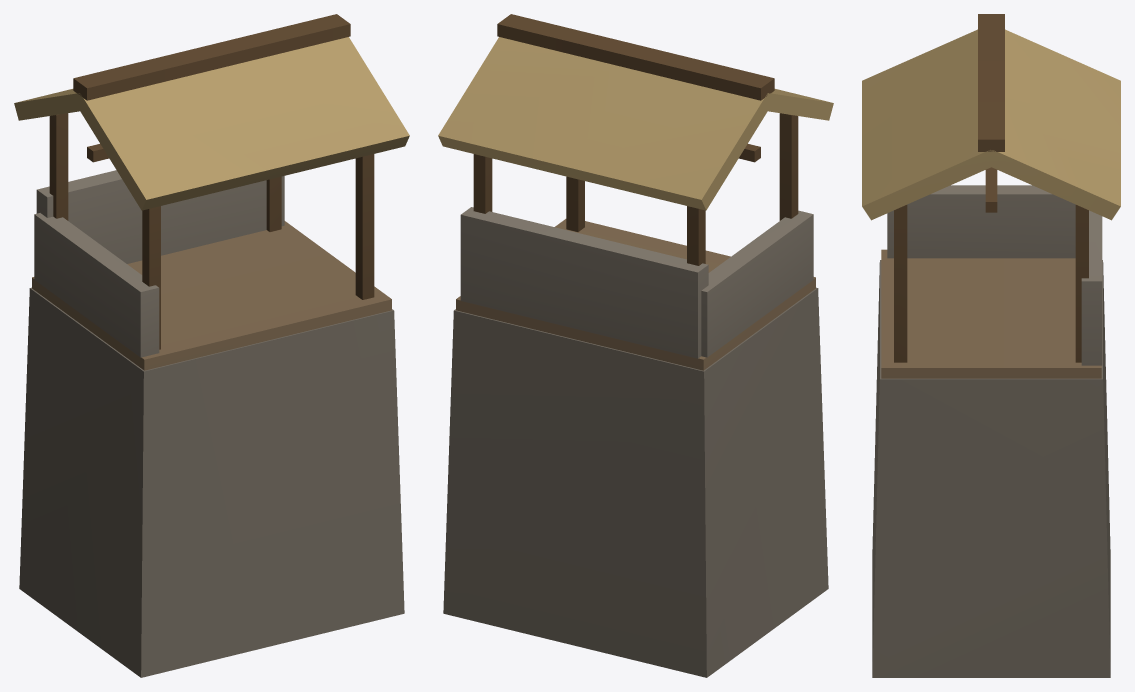
The model's file is killke_ramada_lod1.glb.
The picture shows the model from 3 angles, left to right: view 1: azimuth 30°, elevation 25°; view 2: azimuth 150°, elevation 25°; view 3: azimuth 270°, elevation 25°; orthographic projection. The views are drawn at different scales.
Visible parts, largest first — view 1: GEO-Arch_killke_ramada_LOD1; view 2: GEO-Arch_killke_ramada_LOD1; view 3: GEO-Arch_killke_ramada_LOD1.
Boxes of the visible parts, x1,y1,x2,y2 form: GEO-Arch_killke_ramada_LOD1: [14, 14, 409, 677]; GEO-Arch_killke_ramada_LOD1: [438, 14, 833, 677]; GEO-Arch_killke_ramada_LOD1: [862, 14, 1120, 677].
Size of the model in its own units: 4 by 7.98 by 3.48.
